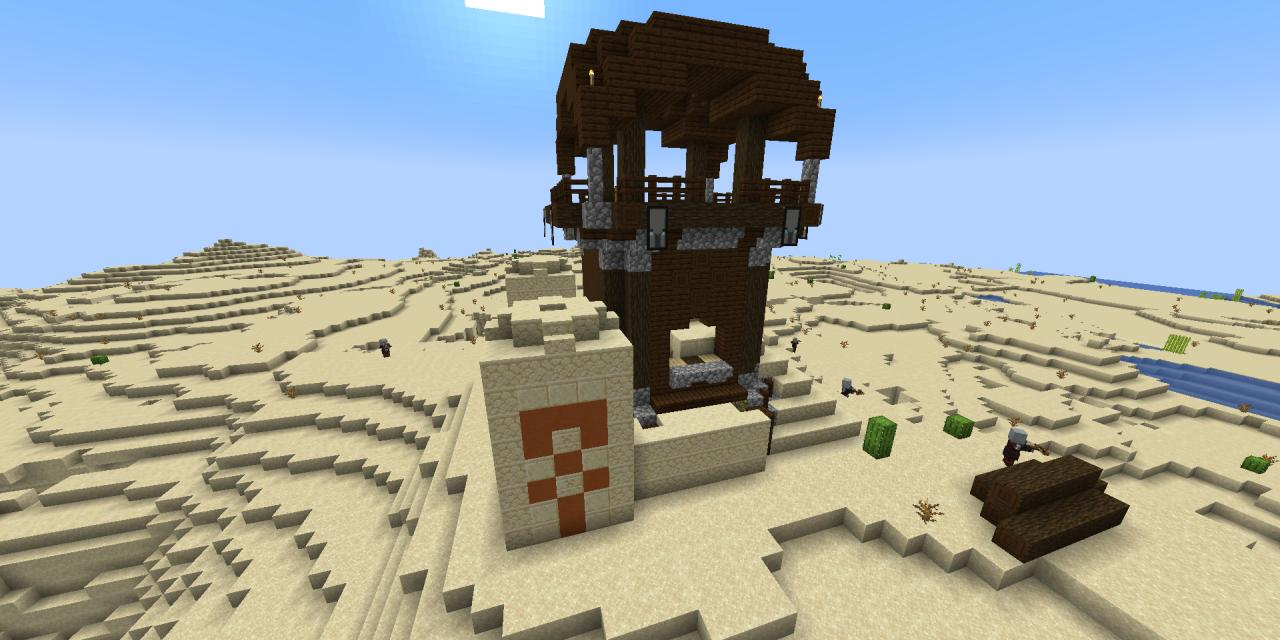desert temple: (475, 228, 873, 550)
pillager outpost: (536, 0, 844, 459)
